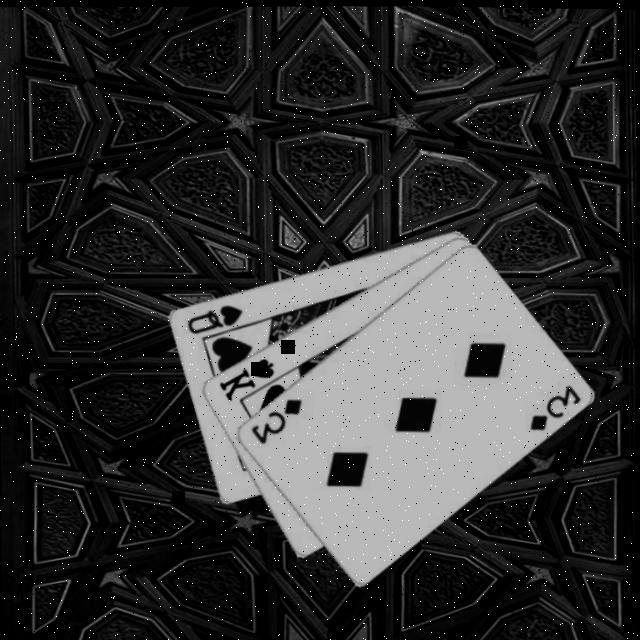3D: (526, 376, 584, 431), (248, 391, 306, 445)
KS: (216, 351, 278, 402)
QH: (184, 298, 246, 334)
